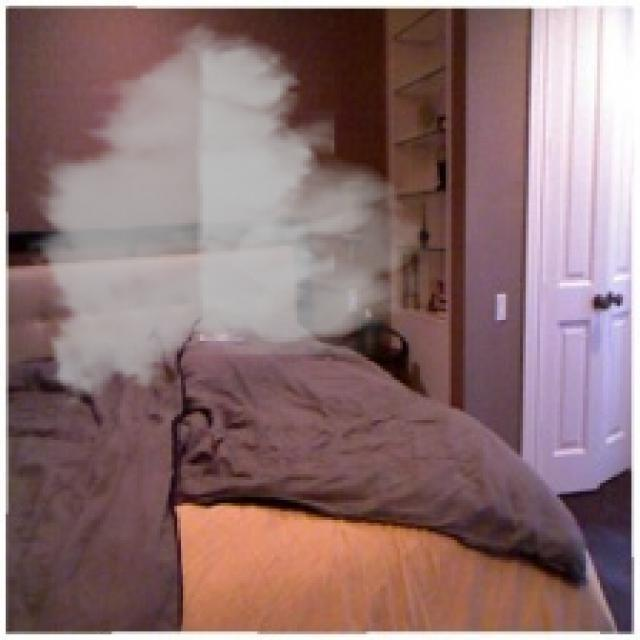Smoke: (22, 12, 428, 417)
